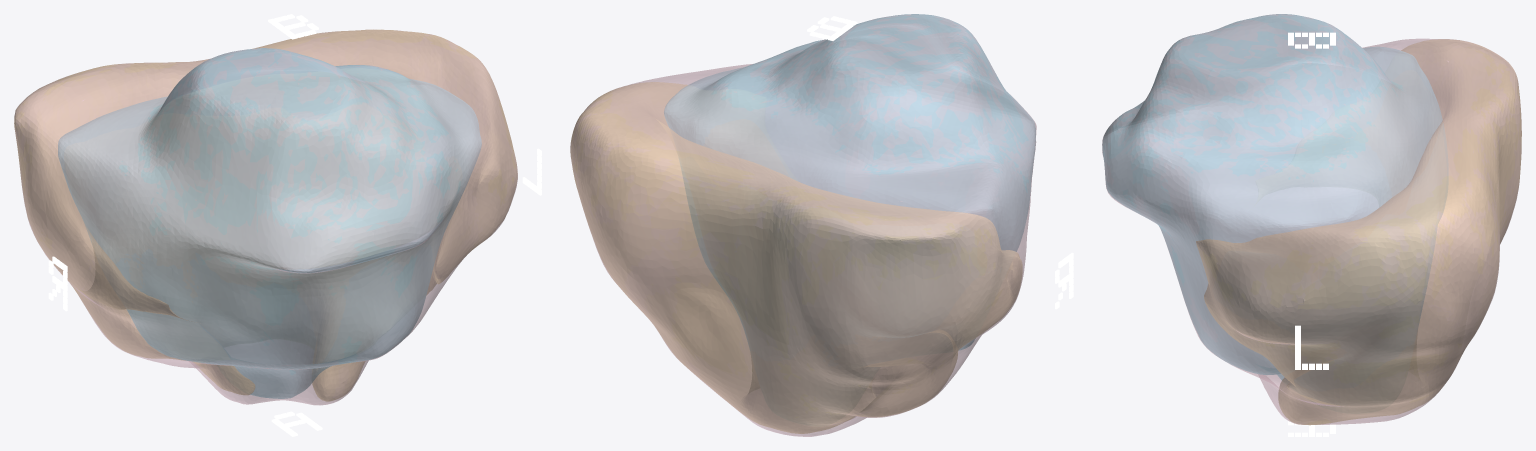
The picture shows the model from 3 angles, left to right: view 1: azimuth 30°, elevation 25°; view 2: azimuth 150°, elevation 25°; view 3: azimuth 270°, elevation 25°; orthographic projection. The views are drawn at different scales.
Parts seen in each view (by area): view 1: prostate_gland, transition_zone, peripheral_zone, pv_ar_marker_B, pv_ar_marker_R, pv_ar_marker_A; view 2: prostate_gland, peripheral_zone, transition_zone, pv_ar_marker_B, pv_ar_marker_R; view 3: prostate_gland, peripheral_zone, transition_zone, pv_ar_marker_B, pv_ar_marker_L.
Part boxes in pixels (x1=…): prostate_gland: x1=14, y1=30, x2=517, y2=405; transition_zone: x1=58, y1=48, x2=481, y2=398; peripheral_zone: x1=14, y1=29, x2=517, y2=401; pv_ar_marker_B: x1=268, y1=14, x2=318, y2=39; pv_ar_marker_R: x1=48, y1=256, x2=67, y2=311; pv_ar_marker_A: x1=271, y1=411, x2=322, y2=436; prostate_gland: x1=570, y1=14, x2=1036, y2=436; peripheral_zone: x1=570, y1=82, x2=1022, y2=433; transition_zone: x1=664, y1=14, x2=1035, y2=350; pv_ar_marker_B: x1=807, y1=16, x2=857, y2=40; pv_ar_marker_R: x1=1055, y1=252, x2=1073, y2=309; prostate_gland: x1=1102, y1=14, x2=1521, y2=424; peripheral_zone: x1=1196, y1=39, x2=1521, y2=425; transition_zone: x1=1102, y1=14, x2=1448, y2=379; pv_ar_marker_B: x1=1288, y1=32, x2=1335, y2=48; pv_ar_marker_L: x1=1295, y1=325, x2=1328, y2=369.
Bounding box in the file's own units: 0.0589 × 0.0472 × 0.046.
